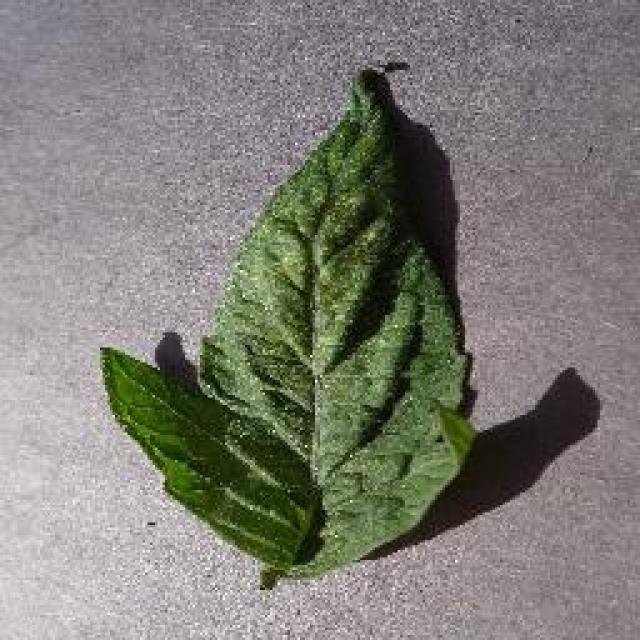Tomato mosaic virus leaf: (98, 62, 472, 582)
